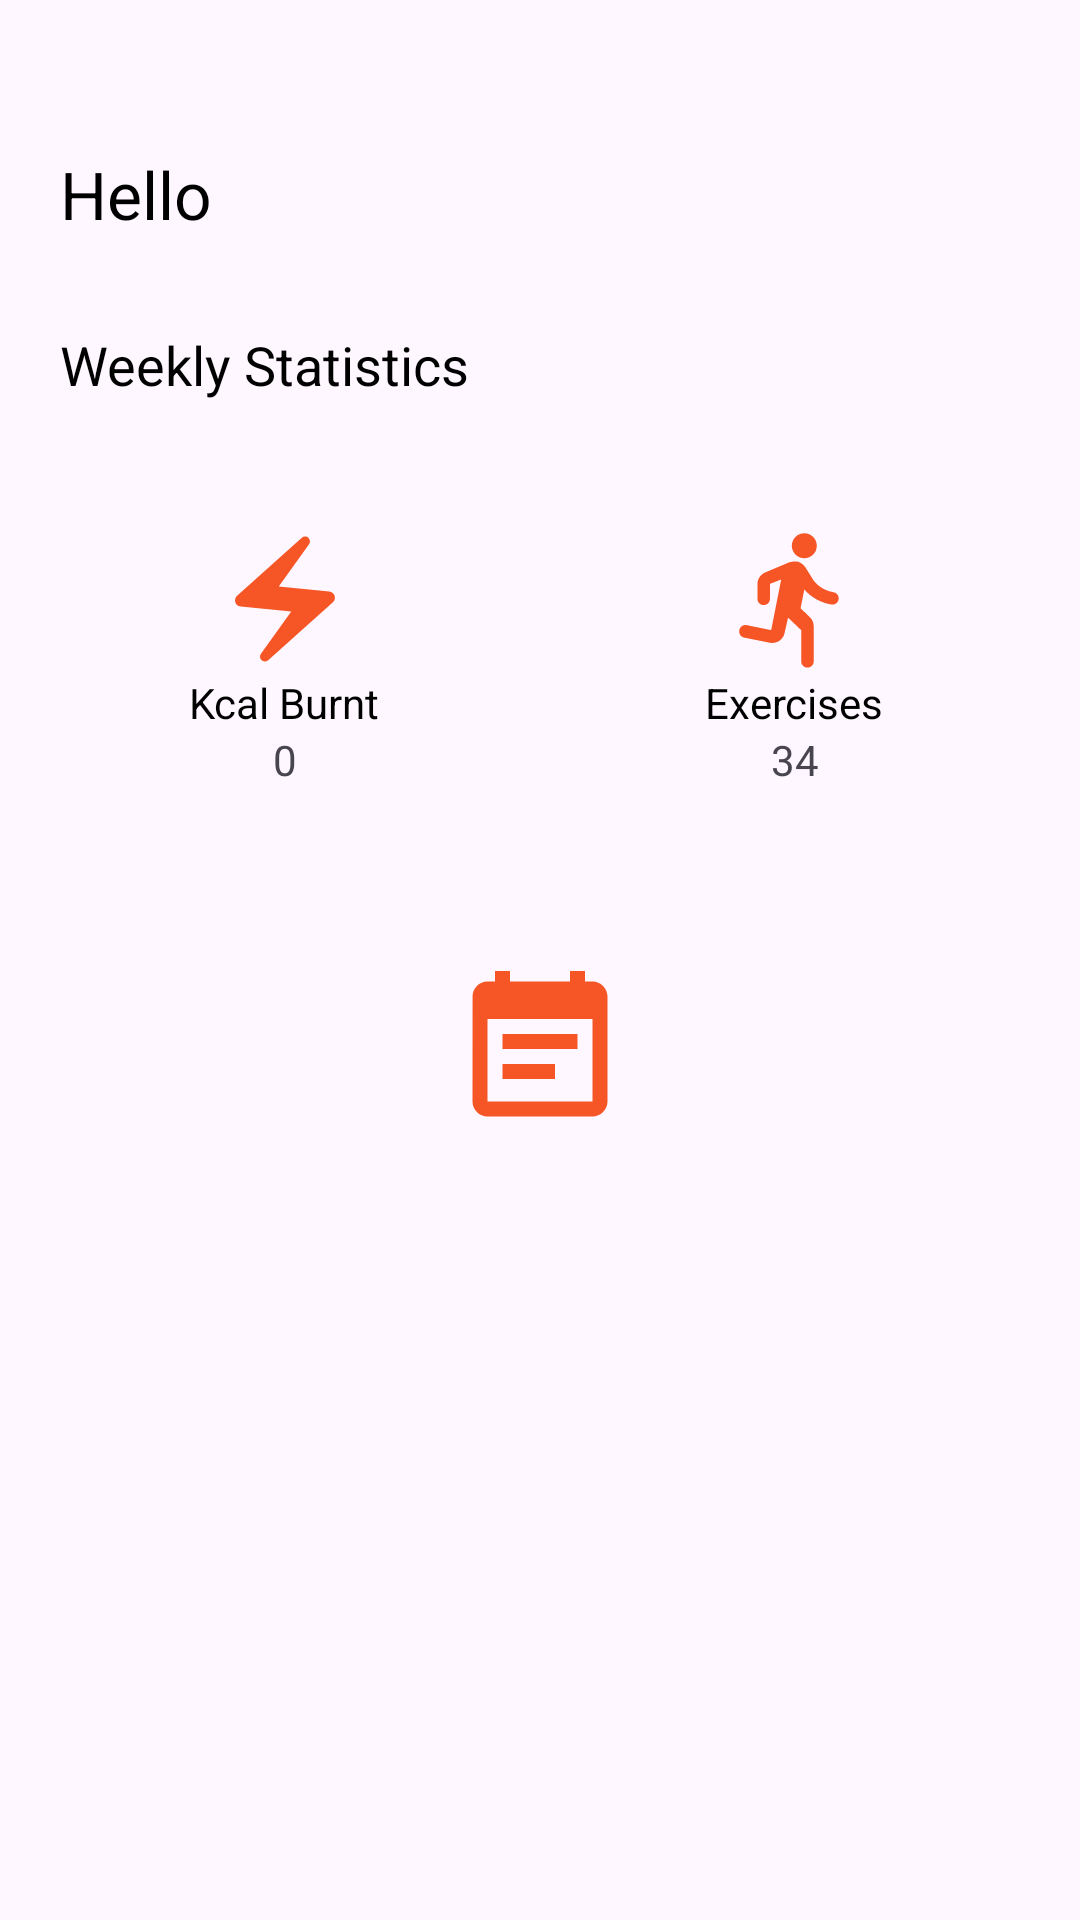

Point at icon controls on the screen. Image size 1080x1920, points as [x,y].
plan: [540,1044]
